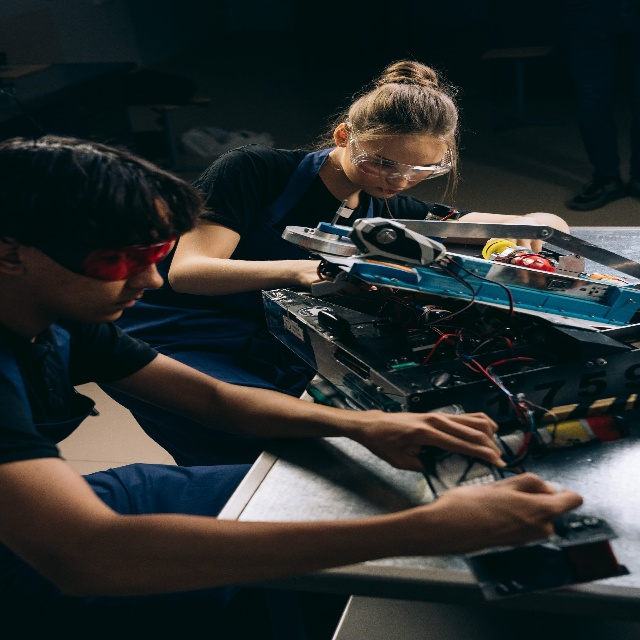Gafas: (28, 216, 174, 284), (347, 123, 456, 183)
Sin_guantes: (360, 402, 507, 471), (436, 469, 580, 537)
